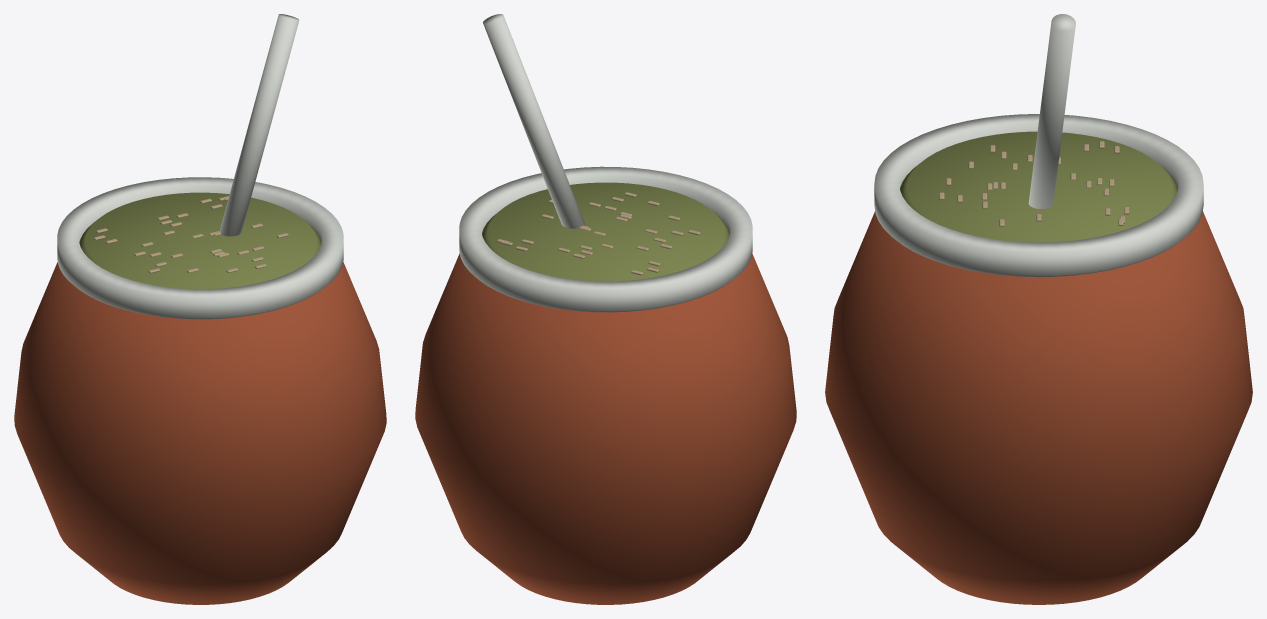
Rendered from mate.glb.
3 renders of one model, left to right at view 1: azimuth 30°, elevation 25°; view 2: azimuth 150°, elevation 25°; view 3: azimuth 270°, elevation 25°, orthographic. The views are drawn at different scales.
Parts seen in each view (by area): view 1: mate; view 2: mate; view 3: mate.
Part boxes in pixels (x1=…): mate: x1=14, y1=14, x2=386, y2=604; mate: x1=415, y1=14, x2=796, y2=604; mate: x1=825, y1=14, x2=1252, y2=604.
Size of the model in its own units: 0.0936 by 0.1432 by 0.0936.
